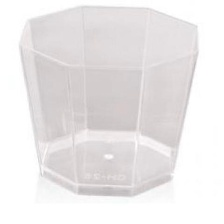glass: (14, 1, 204, 202)
